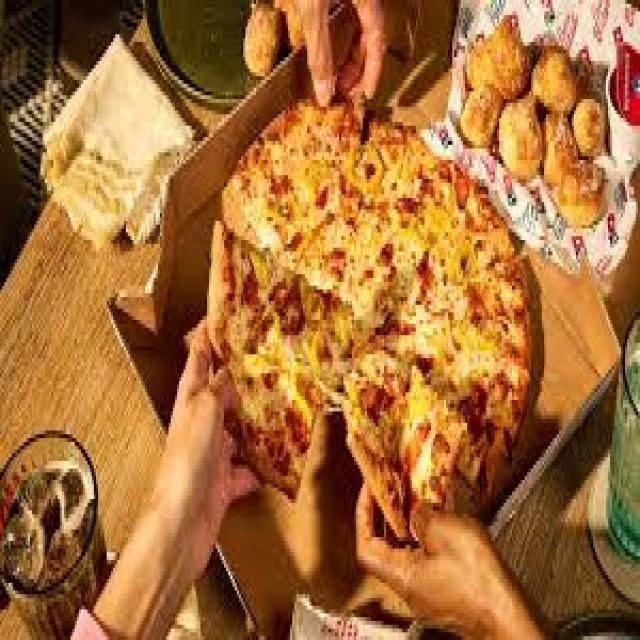pizza_full: (200, 88, 530, 528)
